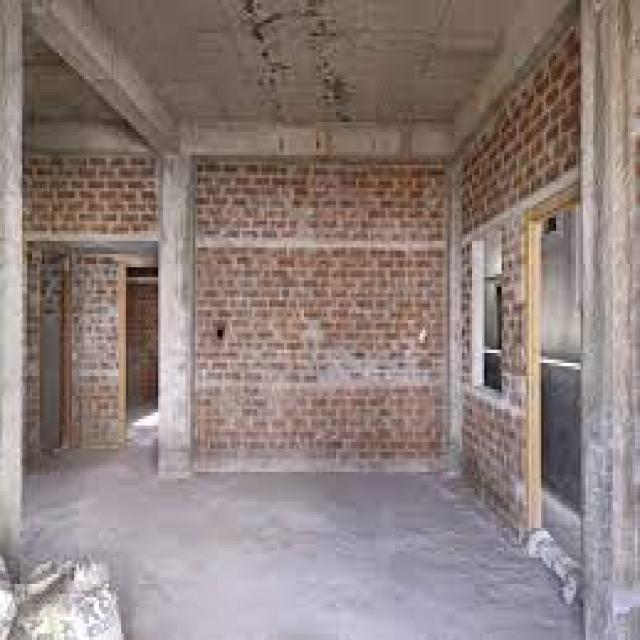floor: (22, 401, 585, 640)
wall: (157, 122, 454, 484), (192, 156, 452, 475), (458, 18, 580, 538), (579, 0, 640, 640), (22, 240, 161, 478), (452, 0, 580, 164), (35, 0, 177, 137), (23, 154, 161, 240), (23, 118, 161, 155), (448, 162, 462, 472), (127, 277, 157, 404)
